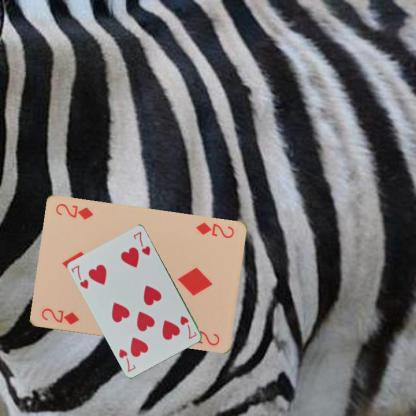2d: (193, 219, 235, 240), (39, 306, 80, 326)
7h: (69, 263, 90, 291), (178, 313, 198, 340)
